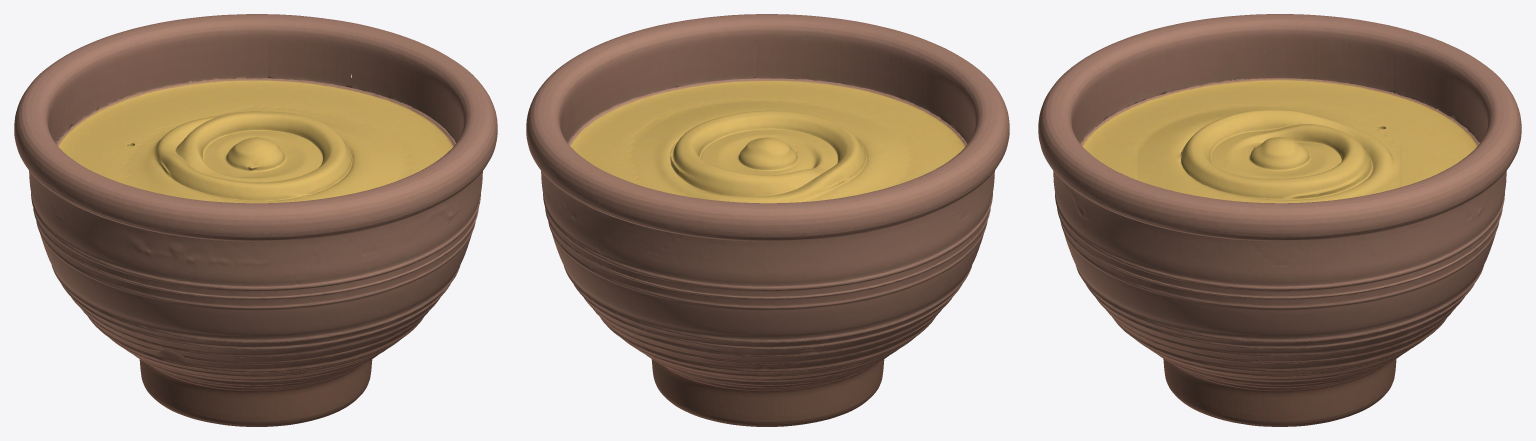
File: realistic-soup.glb
3 views of the same model, side by side, from view 1: azimuth 30°, elevation 25°; view 2: azimuth 150°, elevation 25°; view 3: azimuth 270°, elevation 25° (orthographic).
Visible parts, largest first — view 1: tripo_node_f393c4e5-c934-41b6-a75a-e73370e91145; view 2: tripo_node_f393c4e5-c934-41b6-a75a-e73370e91145; view 3: tripo_node_f393c4e5-c934-41b6-a75a-e73370e91145.
Boxes of the visible parts, x1,y1,x2,y2 form: tripo_node_f393c4e5-c934-41b6-a75a-e73370e91145: [14, 14, 497, 426]; tripo_node_f393c4e5-c934-41b6-a75a-e73370e91145: [526, 14, 1009, 426]; tripo_node_f393c4e5-c934-41b6-a75a-e73370e91145: [1038, 14, 1521, 426].
Bounding box in the file's own units: 0.5602 × 0.3459 × 0.5601.
1 material, 1 textured.
